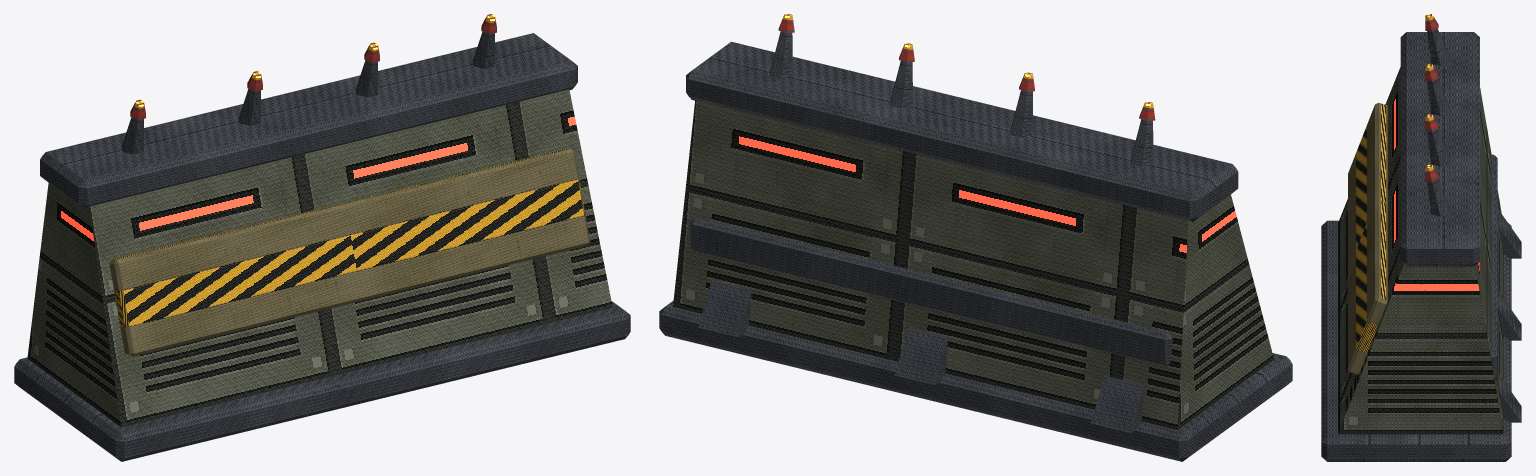
The model's file is barricade.glb.
3 renders of one model, left to right at view 1: azimuth 30°, elevation 25°; view 2: azimuth 150°, elevation 25°; view 3: azimuth 270°, elevation 25°, orthographic. The views are drawn at different scales.
Parts seen in each view (by area): view 1: barricade__mil_bunker_armor, barricade__mil_dark_steel, barricade__mil_hazard_trim, barricade__mil_plasma_drum; view 2: barricade__mil_bunker_armor, barricade__mil_dark_steel, barricade__mil_plasma_drum; view 3: barricade__mil_dark_steel, barricade__mil_bunker_armor, barricade__mil_hazard_trim, barricade__mil_plasma_drum.
Part boxes in pixels (left/top/right/bottom): barricade__mil_bunker_armor: left=27, top=89, right=612, bottom=427; barricade__mil_dark_steel: left=14, top=31, right=630, bottom=461; barricade__mil_hazard_trim: left=109, top=148, right=589, bottom=356; barricade__mil_plasma_drum: left=130, top=14, right=496, bottom=119; barricade__mil_bunker_armor: left=673, top=100, right=1273, bottom=429; barricade__mil_dark_steel: left=659, top=31, right=1292, bottom=461; barricade__mil_plasma_drum: left=778, top=14, right=1155, bottom=120; barricade__mil_dark_steel: left=1321, top=28, right=1521, bottom=461; barricade__mil_bunker_armor: left=1338, top=67, right=1503, bottom=434; barricade__mil_hazard_trim: left=1348, top=103, right=1387, bottom=374; barricade__mil_plasma_drum: left=1425, top=14, right=1438, bottom=181.
Size of the model in its own units: 2.64 by 1.47 by 1.01.
Materials: 4 (4 with a texture image).
